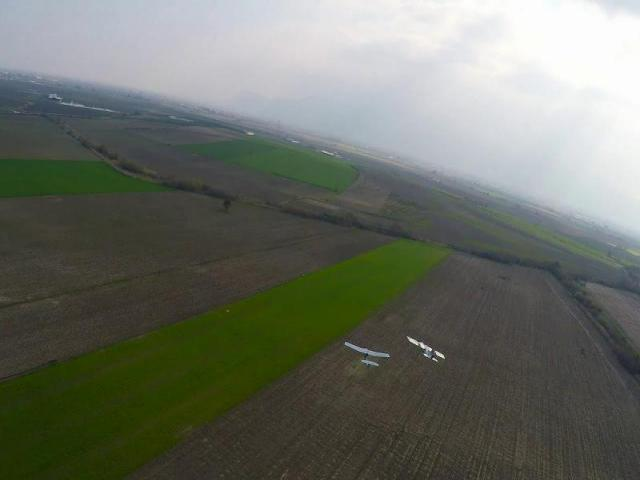hedef: (341, 330, 396, 377), (404, 322, 448, 376)
